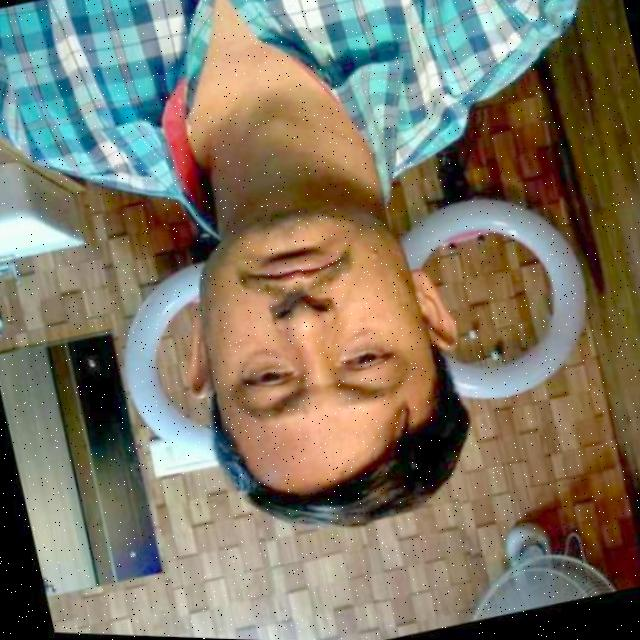puffy_eyes: (237, 356, 289, 379), (334, 327, 370, 356)
